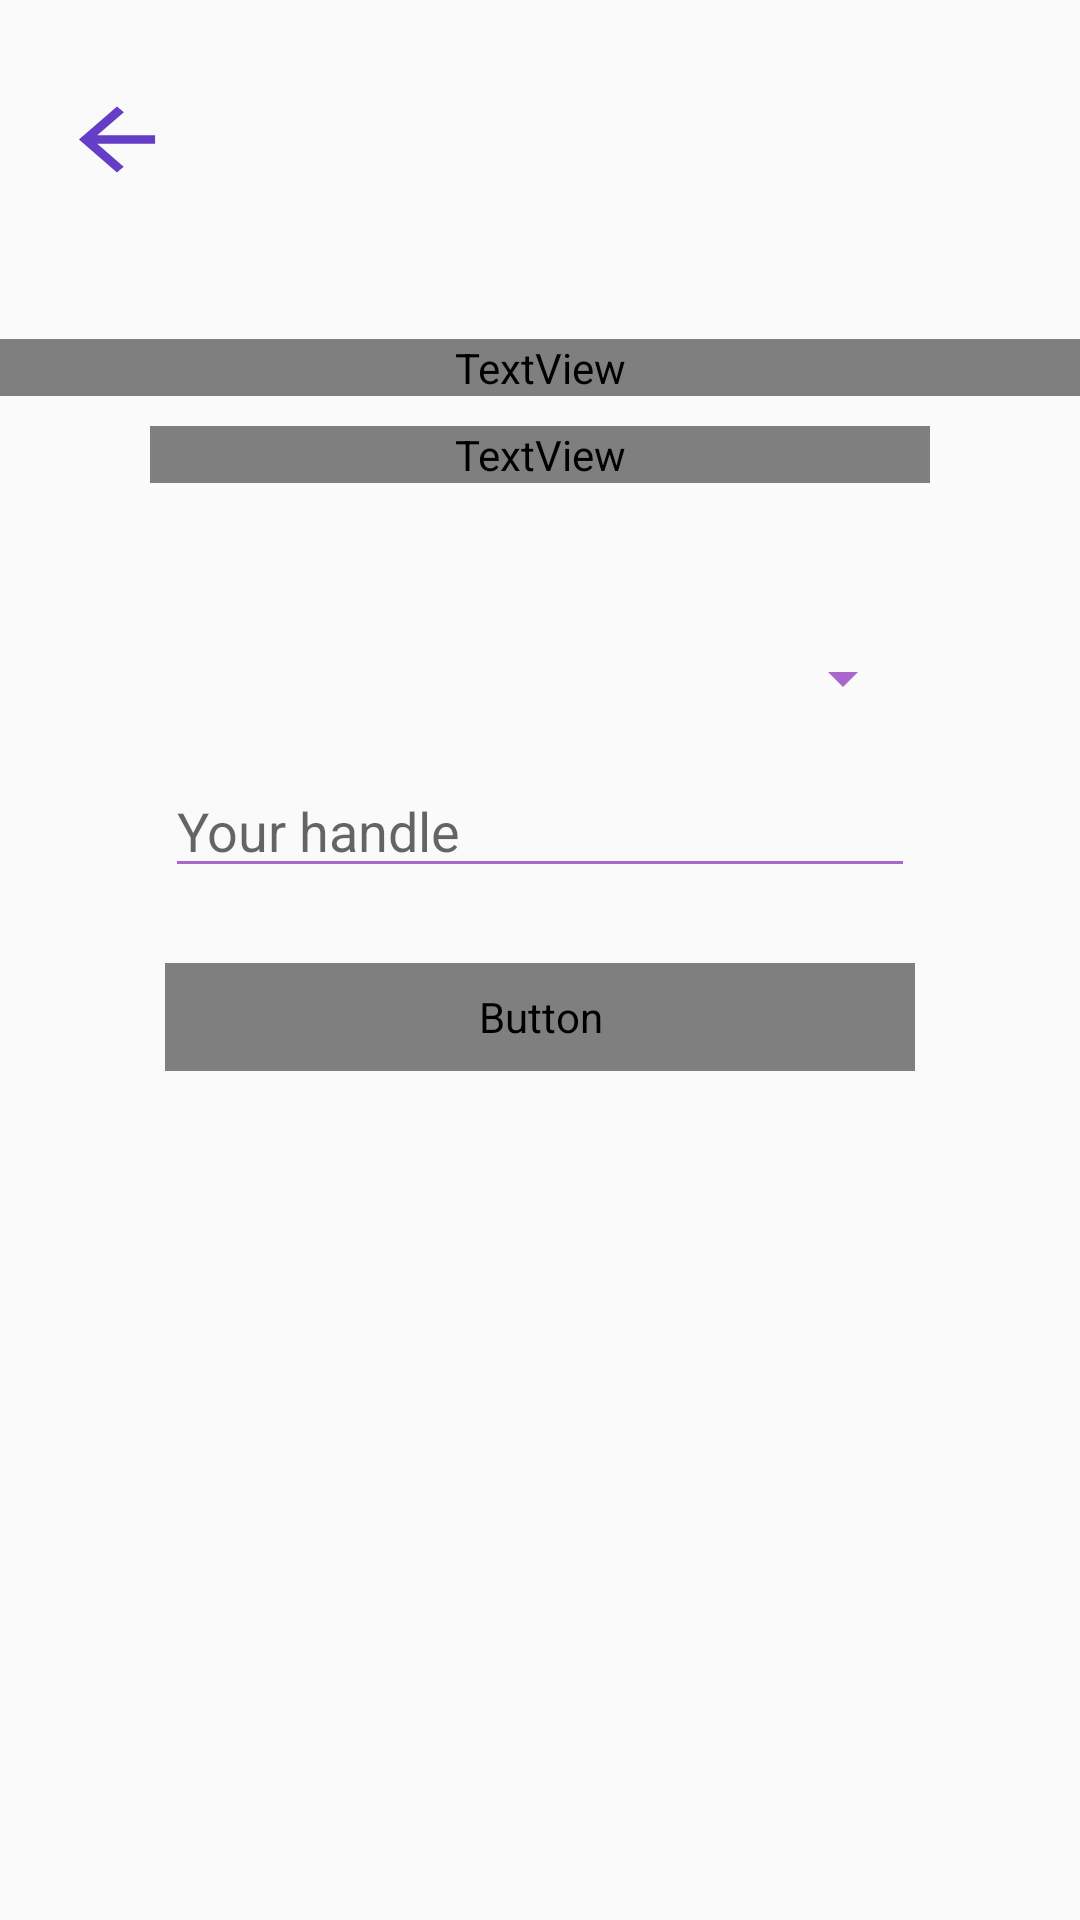

Icons on this 1080px x 1920px Android screen, each with the point to tap as (x,y):
arrow back: (117,139)
